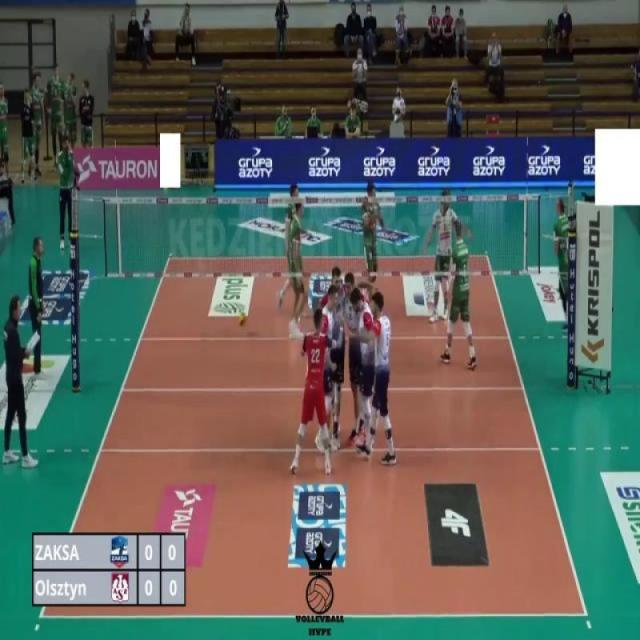volleyball: (238, 310, 248, 330)
